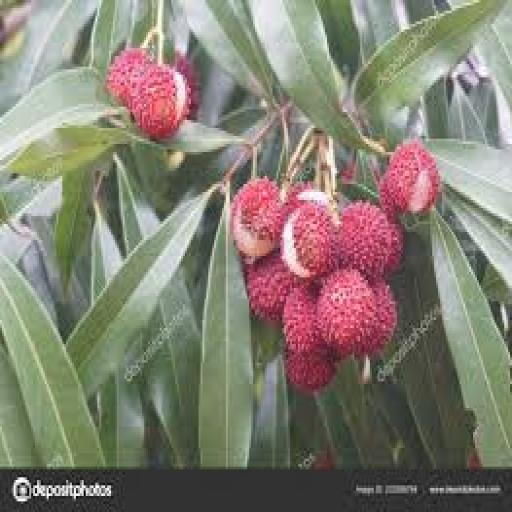lychee: (318, 270, 377, 354), (131, 64, 188, 138), (380, 142, 439, 213), (281, 203, 336, 279), (232, 179, 284, 258), (339, 203, 393, 279), (246, 254, 297, 322), (357, 283, 397, 354), (283, 286, 323, 351), (108, 48, 149, 106), (287, 352, 334, 394), (174, 51, 200, 119), (285, 182, 329, 218), (386, 222, 404, 274)
